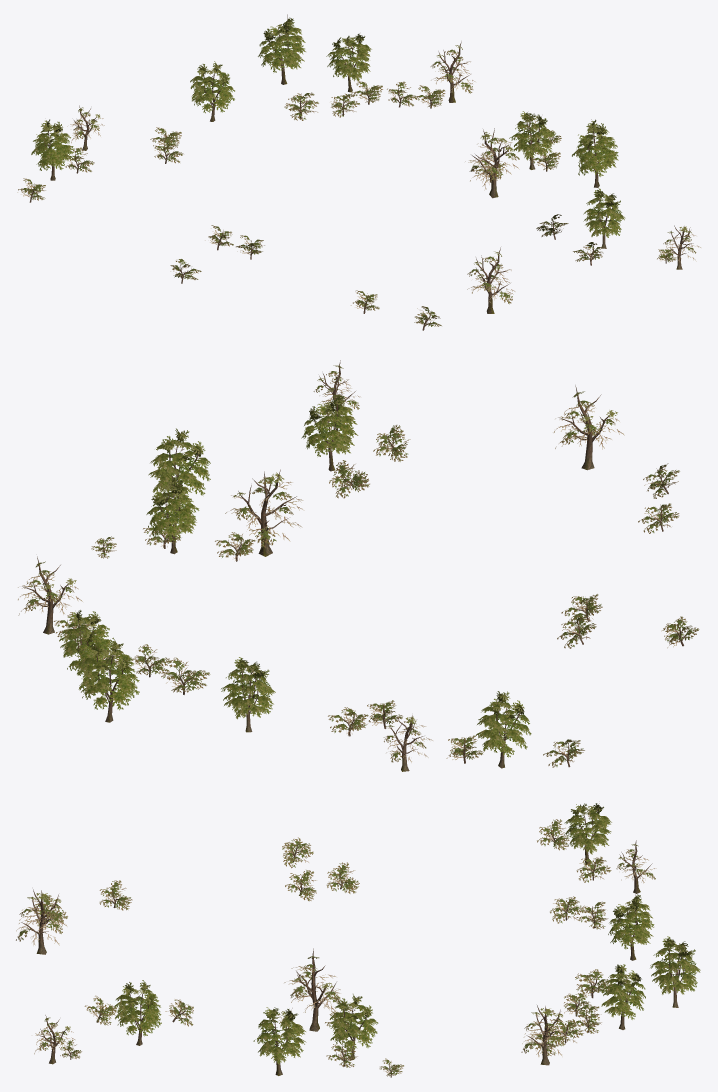
File: srpg_quests_tree01_all.FBX
3 renders of one model, top to bottom at view 1: azimuth 30°, elevation 25°; view 2: azimuth 150°, elevation 25°; view 3: azimuth 270°, elevation 25°, orthographic. The views are drawn at different scales.
Parts seen in each view (by area): view 1: srpg_quests_tree01_all; view 2: srpg_quests_tree01_all; view 3: srpg_quests_tree01_all.
Boxes of the visible parts, x1,y1,x2,y2 form: srpg_quests_tree01_all: (17,14,700,330); srpg_quests_tree01_all: (18,360,699,771); srpg_quests_tree01_all: (16,803,700,1077).
Size of the model in its own units: 97.72 by 14.56 by 114.
